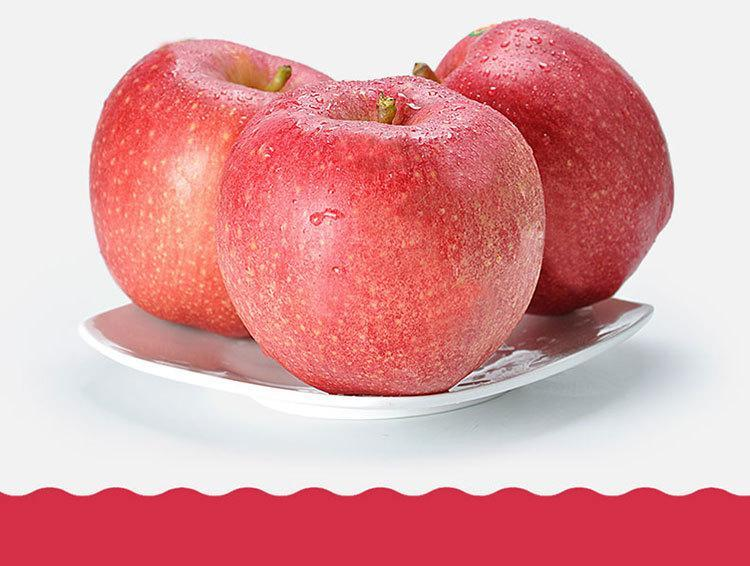apple: (213, 77, 546, 395), (424, 21, 674, 316), (91, 39, 333, 337)
